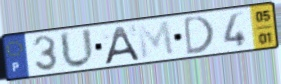3: (32, 34, 60, 74)
4: (221, 11, 249, 49)
A: (102, 24, 142, 66)
D: (182, 13, 216, 57)
M: (136, 19, 177, 61)
U: (58, 26, 97, 70)
